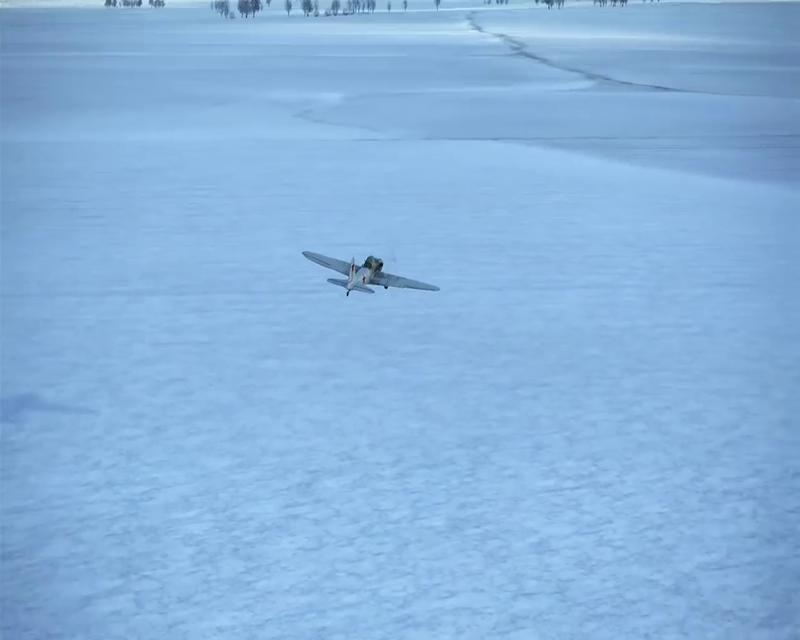UAV: (302, 251, 439, 299)
